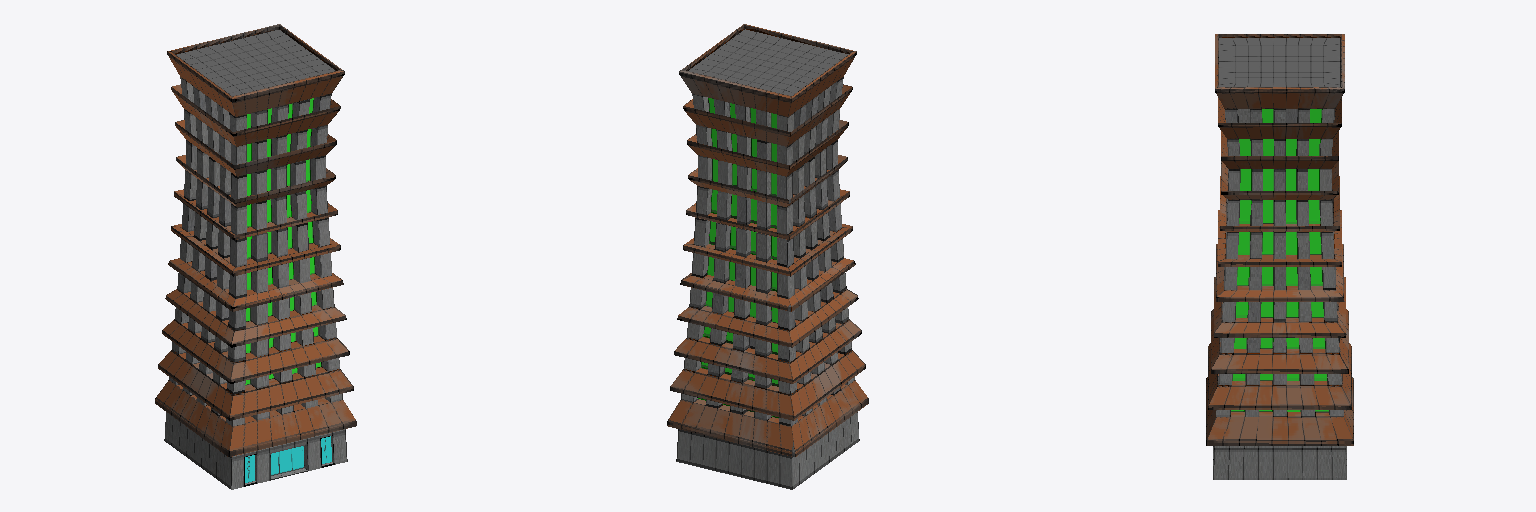
3 renders of one model, left to right at view 1: azimuth 30°, elevation 25°; view 2: azimuth 150°, elevation 25°; view 3: azimuth 270°, elevation 25°, orthographic.
Visible parts, largest first — view 1: Cube; view 2: Cube; view 3: Cube.
Part boxes in pixels (bbox=[...]): Cube: bbox=[155, 24, 356, 489]; Cube: bbox=[667, 24, 868, 489]; Cube: bbox=[1206, 34, 1353, 479].
Bounding box in the file's own units: 10.94 × 31.75 × 10.94.
Materials: 1 (1 with a texture image).